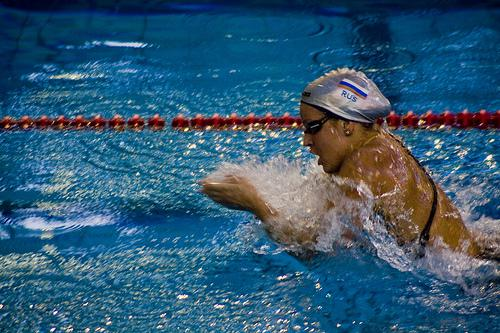human: (198, 66, 484, 268)
